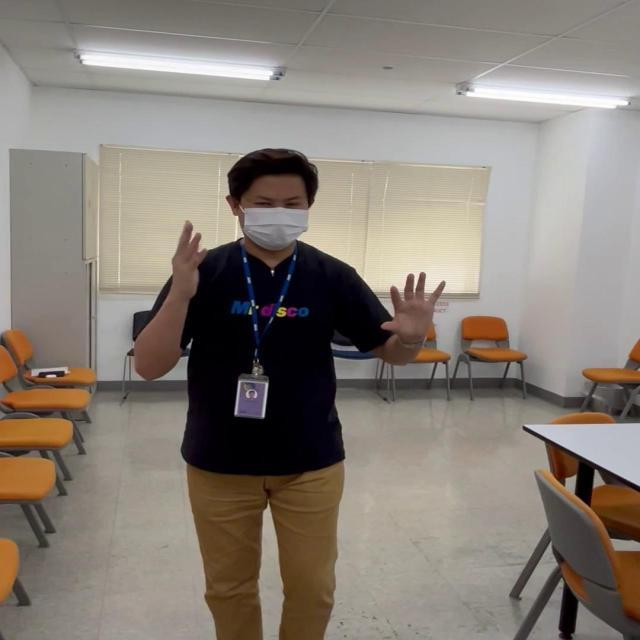bare_hand: (377, 268, 447, 346), (169, 217, 206, 285)
